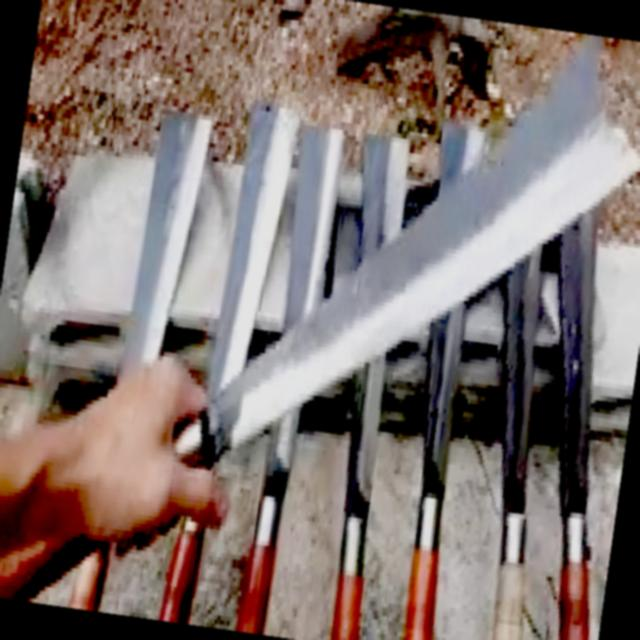eto: (0, 42, 640, 601)
